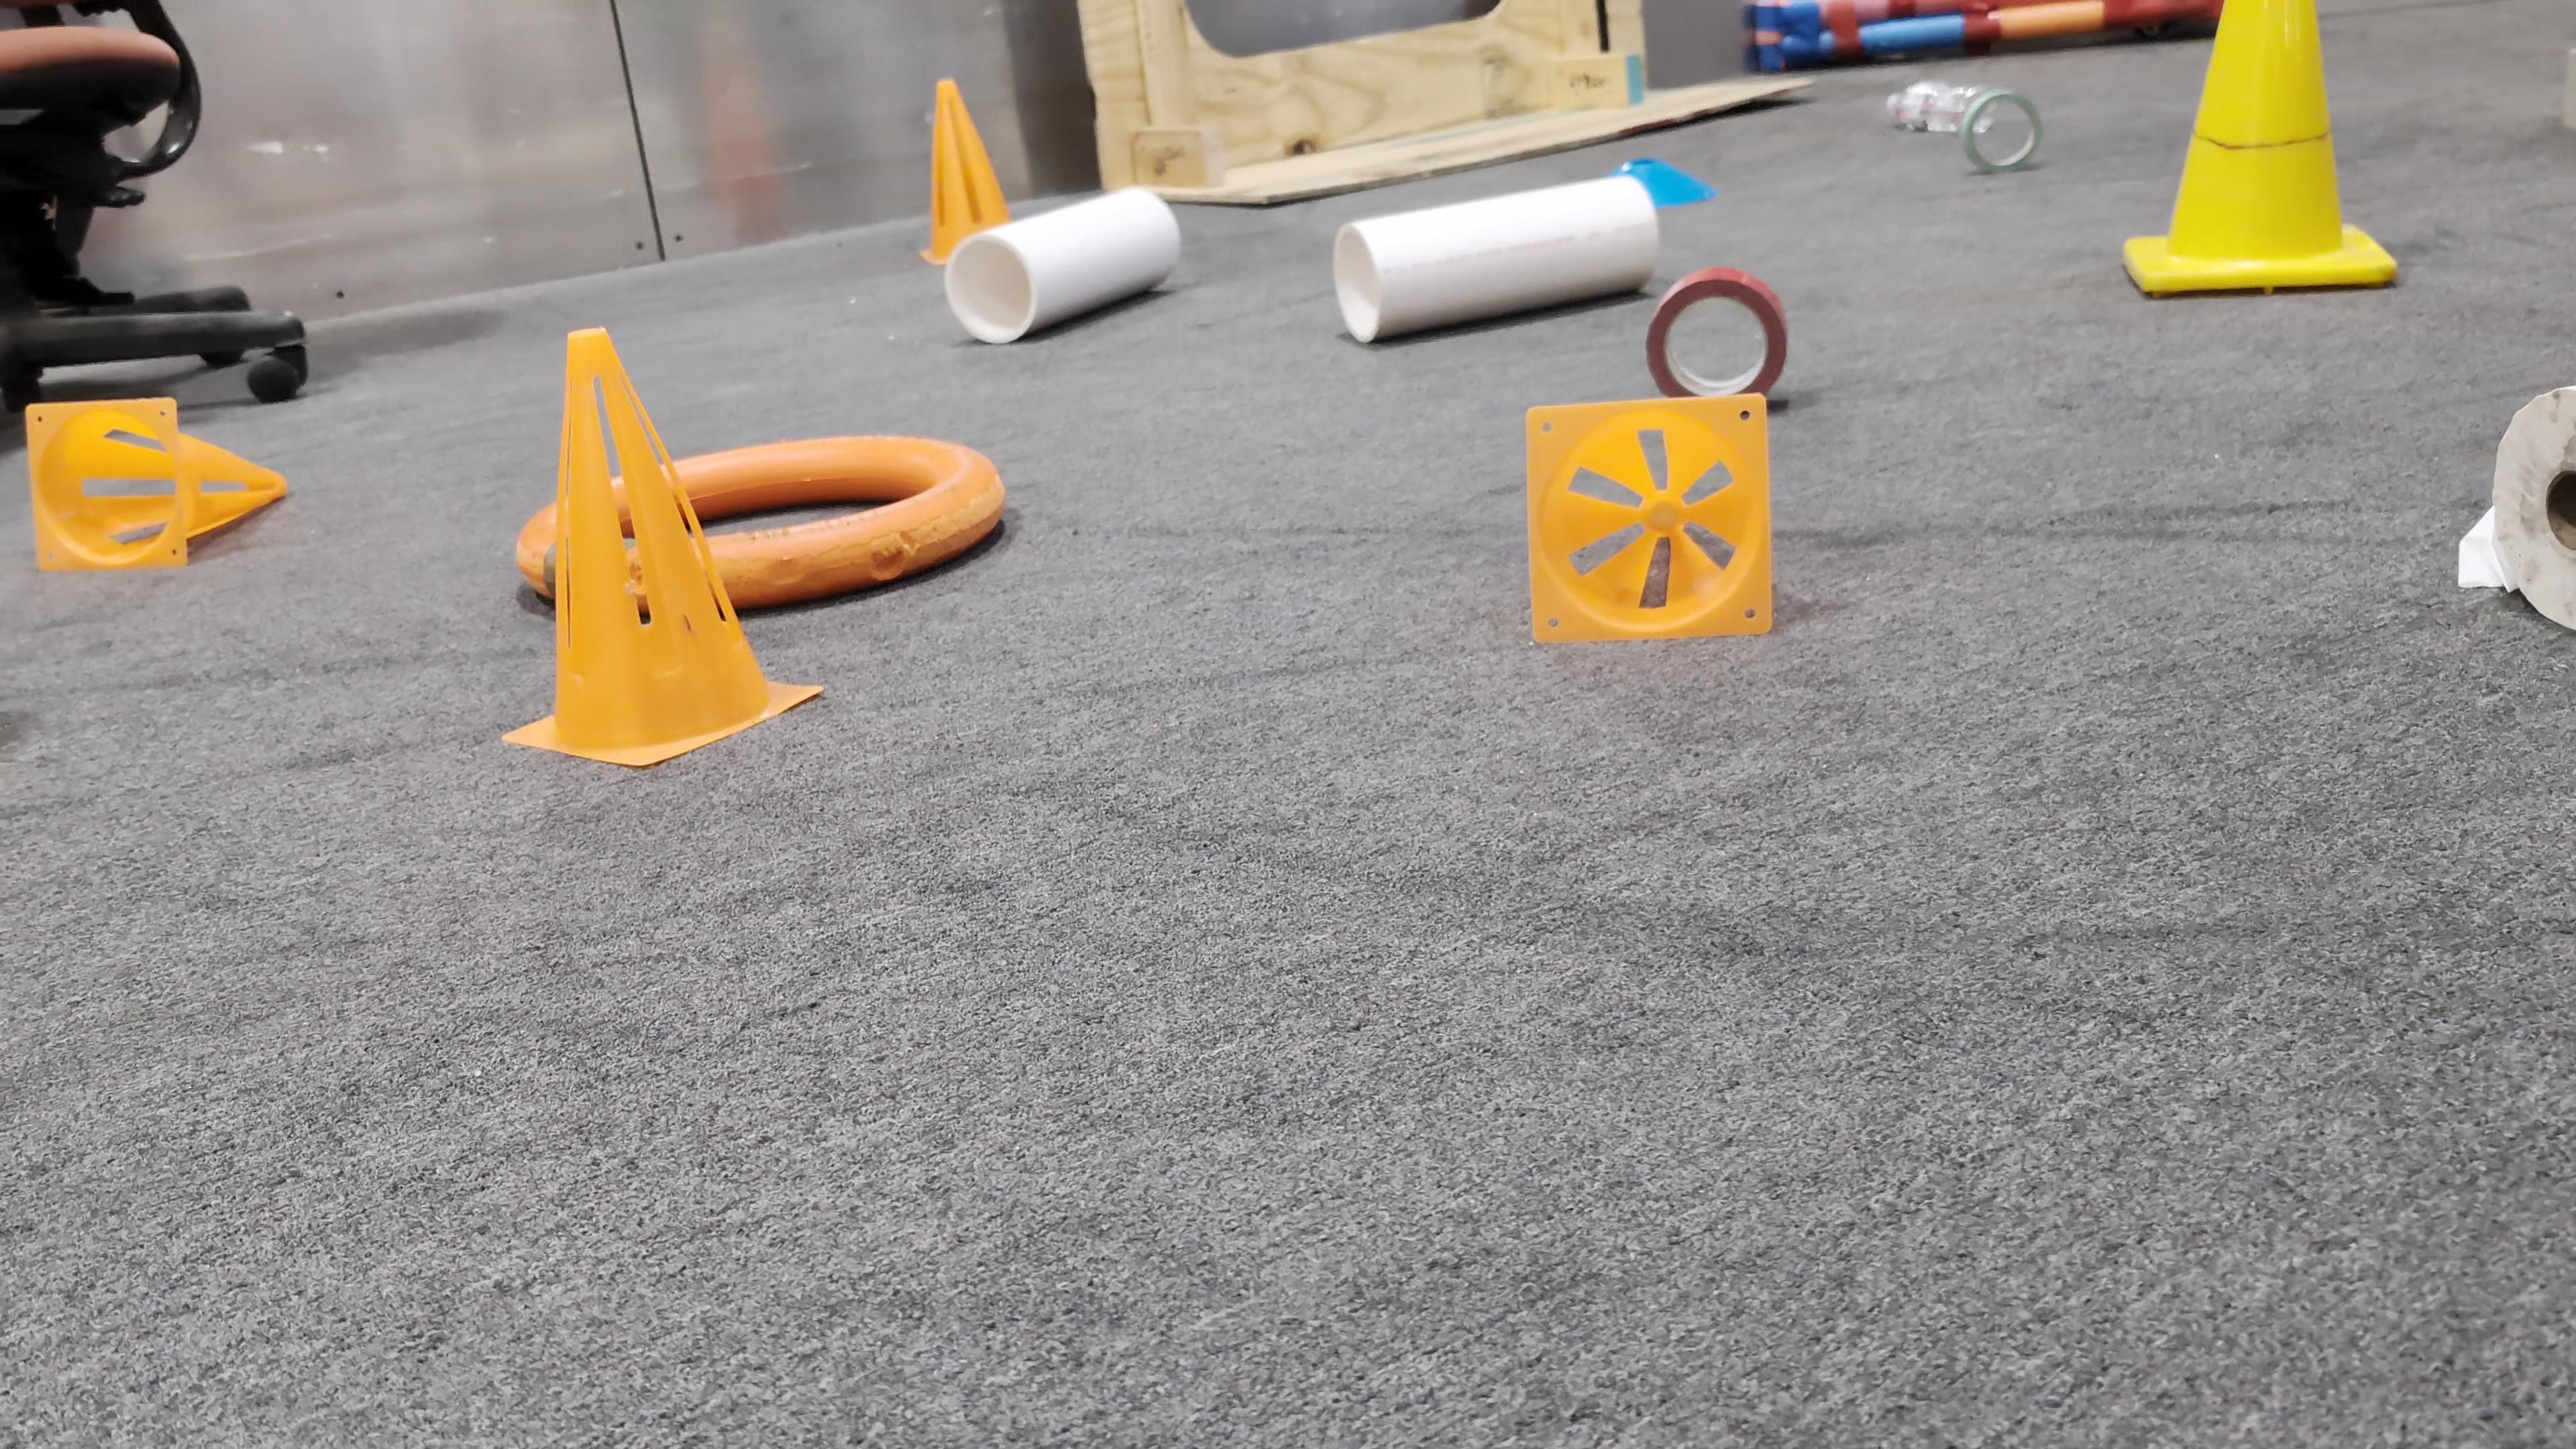coral: (1330, 169, 1665, 343), (944, 180, 1182, 341)
